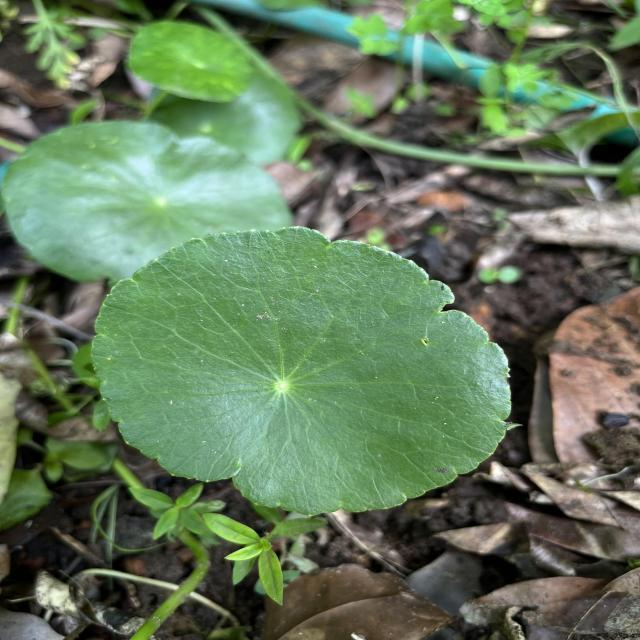Bacopa monnieri: (80, 218, 518, 519)
